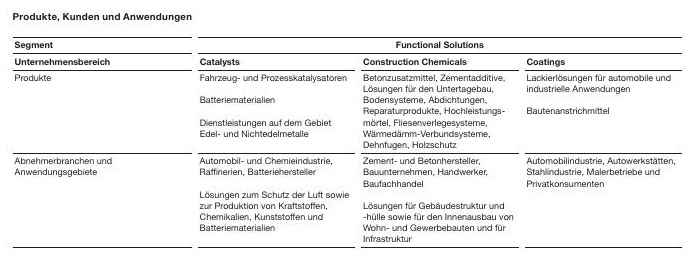table: (0, 0, 694, 258)
